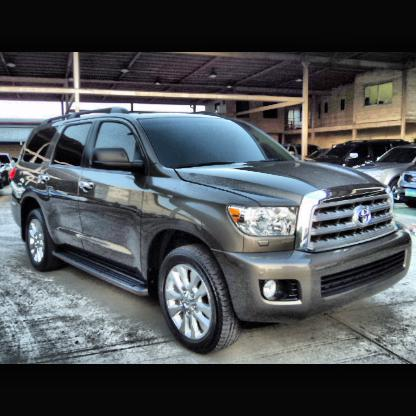Toyota Sequoia SUV 2012: (12, 110, 413, 357)
